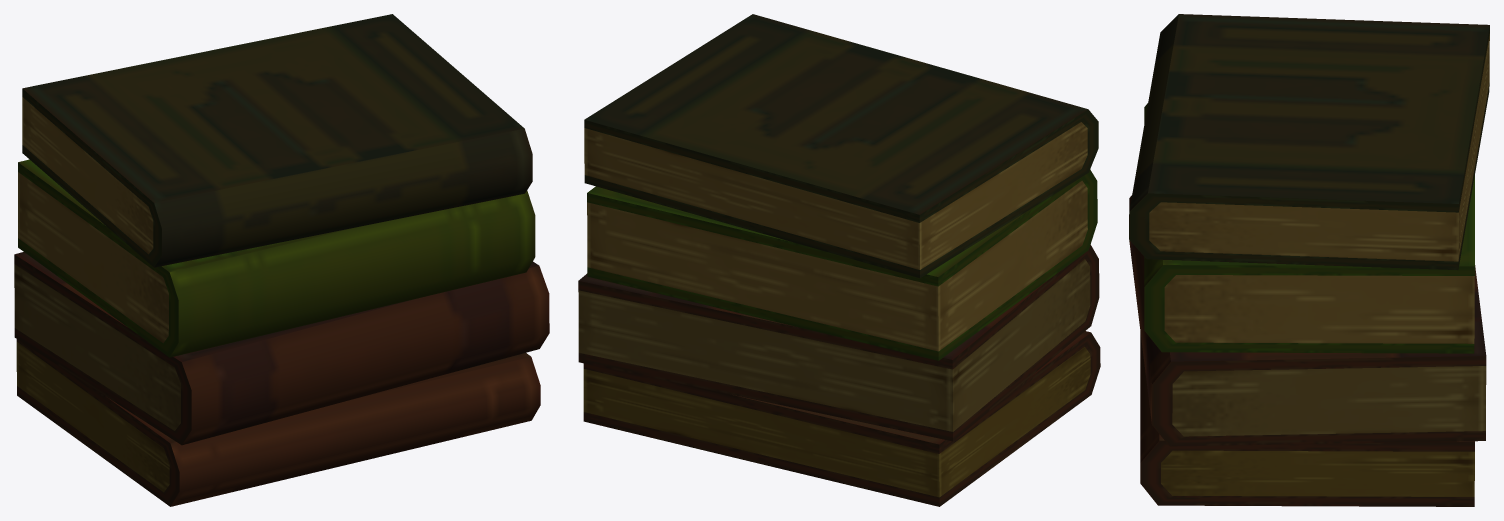
Rendered from books.glb.
3 views of the same model, side by side, from view 1: azimuth 30°, elevation 25°; view 2: azimuth 150°, elevation 25°; view 3: azimuth 270°, elevation 25° (orthographic). The views are drawn at different scales.
Visible parts, largest first — view 1: Book_Stack_1; view 2: Book_Stack_1; view 3: Book_Stack_1.
Boxes of the visible parts, x1,y1,x2,y2 form: Book_Stack_1: [14, 14, 549, 506]; Book_Stack_1: [578, 14, 1100, 506]; Book_Stack_1: [1129, 14, 1489, 506].
Bounding box in the file's own units: 0.2849 × 0.2137 × 0.2263.
1 material, 1 textured.
